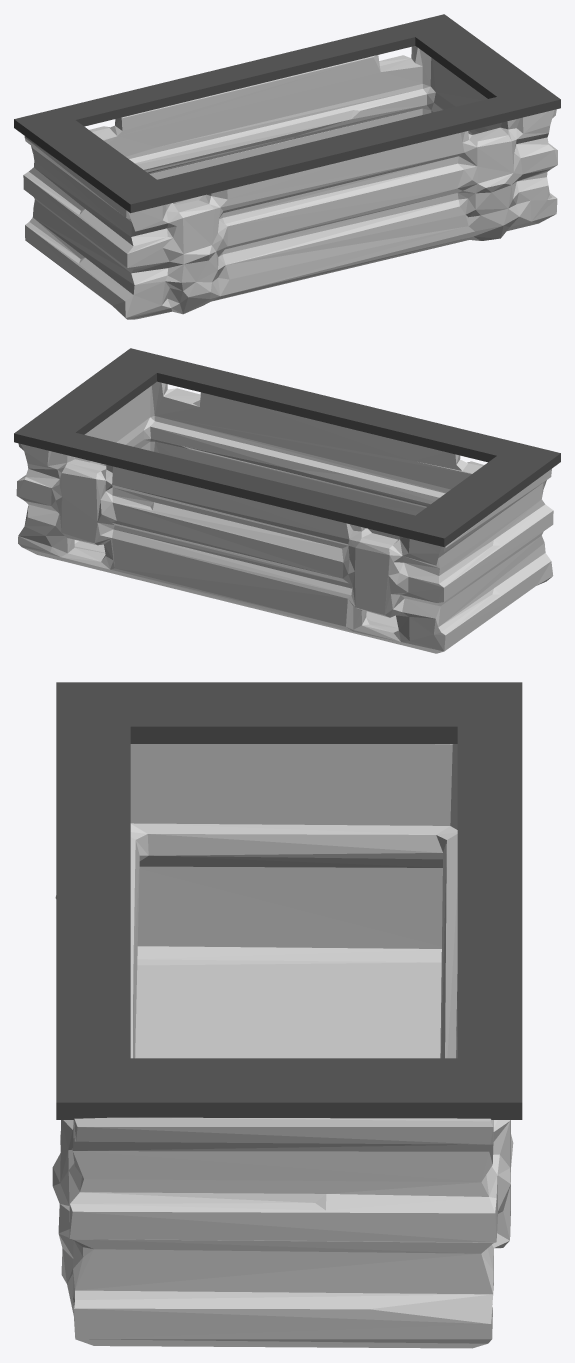
File: chest_open.fbx
The picture shows the model from 3 angles, top to bottom: view 1: azimuth 30°, elevation 25°; view 2: azimuth 150°, elevation 25°; view 3: azimuth 270°, elevation 25°; orthographic projection. The views are drawn at different scales.
Visible parts, largest first — view 1: chest_open; view 2: chest_open; view 3: chest_open.
Boxes of the visible parts, box(x1,y1,x2,y2) form: chest_open: box(14, 14, 560, 319); chest_open: box(14, 348, 560, 653); chest_open: box(52, 682, 522, 1348).
Bounding box in the file's own units: 102 × 30.56 × 47.98.
